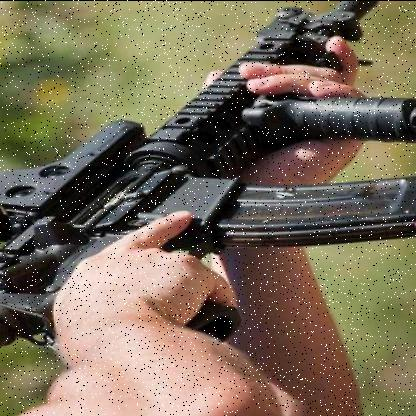rifle: (0, 1, 412, 346)
